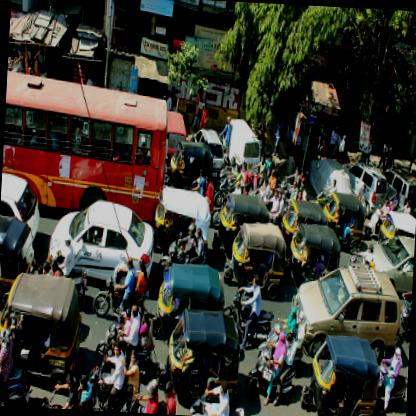bus: (0, 68, 169, 226)
car: (291, 267, 402, 362), (44, 198, 156, 289), (0, 169, 43, 249), (368, 236, 414, 296), (346, 164, 388, 219), (226, 117, 262, 175), (192, 126, 226, 181)
motorcycle: (244, 330, 297, 410), (96, 303, 154, 374), (221, 273, 275, 348), (83, 347, 140, 411), (91, 257, 150, 316), (158, 222, 208, 278), (374, 346, 409, 415), (0, 332, 32, 406)
